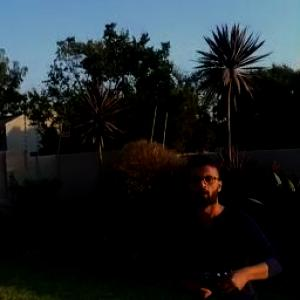follow: (166, 150, 290, 299)
